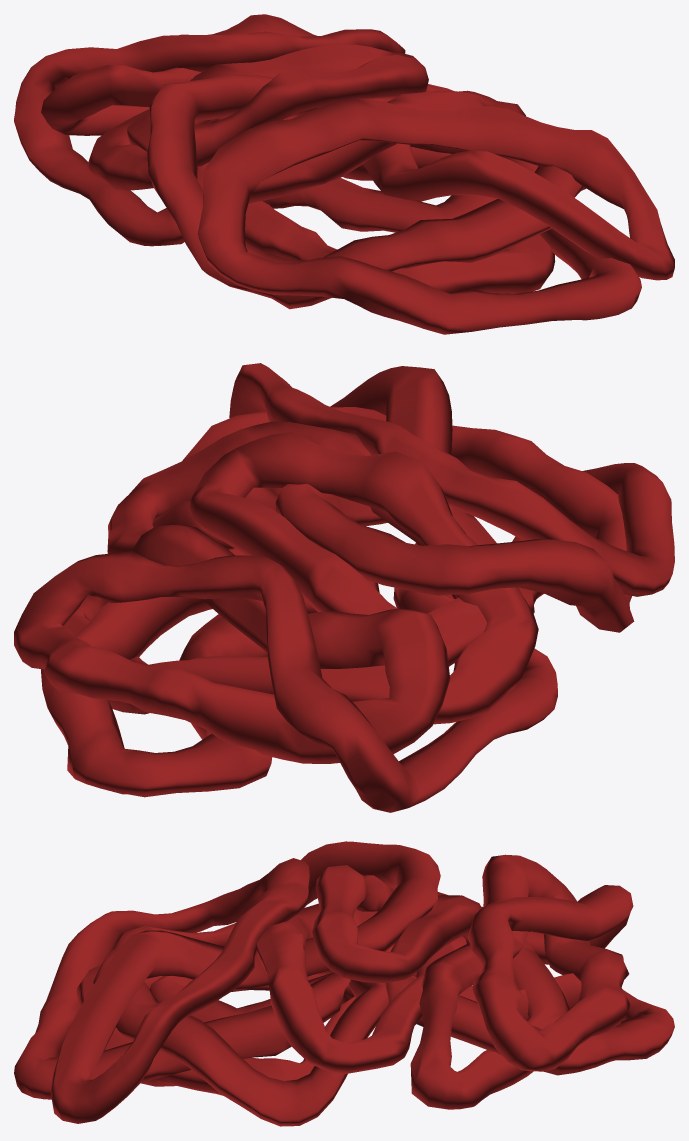
File: Intestines.FBX
The picture shows the model from 3 angles, top to bottom: view 1: azimuth 30°, elevation 25°; view 2: azimuth 150°, elevation 25°; view 3: azimuth 270°, elevation 25°; orthographic projection. The views are drawn at different scales.
Parts seen in each view (by area): view 1: Intestines; view 2: Intestines; view 3: Intestines.
Boxes of the visible parts, <box> form: Intestines: <box>14,14,674,334</box>; Intestines: <box>14,363,674,812</box>; Intestines: <box>14,841,674,1126</box>.
Bounding box in the file's own units: 25.23 × 10.01 × 38.55.
